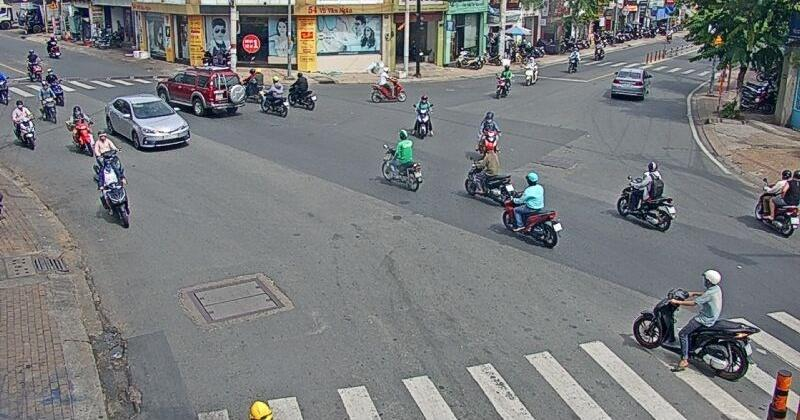xe hoi: (104, 94, 190, 151), (155, 66, 244, 116), (610, 68, 652, 97)
xe may: (631, 270, 755, 381), (502, 172, 562, 249), (615, 161, 677, 232), (464, 144, 513, 203), (381, 130, 423, 192), (95, 160, 129, 230), (67, 103, 94, 156), (10, 99, 36, 151), (370, 66, 407, 102), (259, 75, 287, 118), (475, 111, 503, 153), (287, 73, 316, 111), (412, 95, 432, 138), (37, 80, 57, 123), (494, 64, 513, 100)
